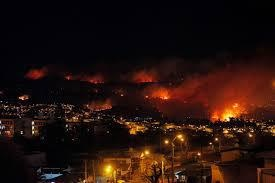fire: (211, 101, 244, 122), (136, 72, 154, 81)
